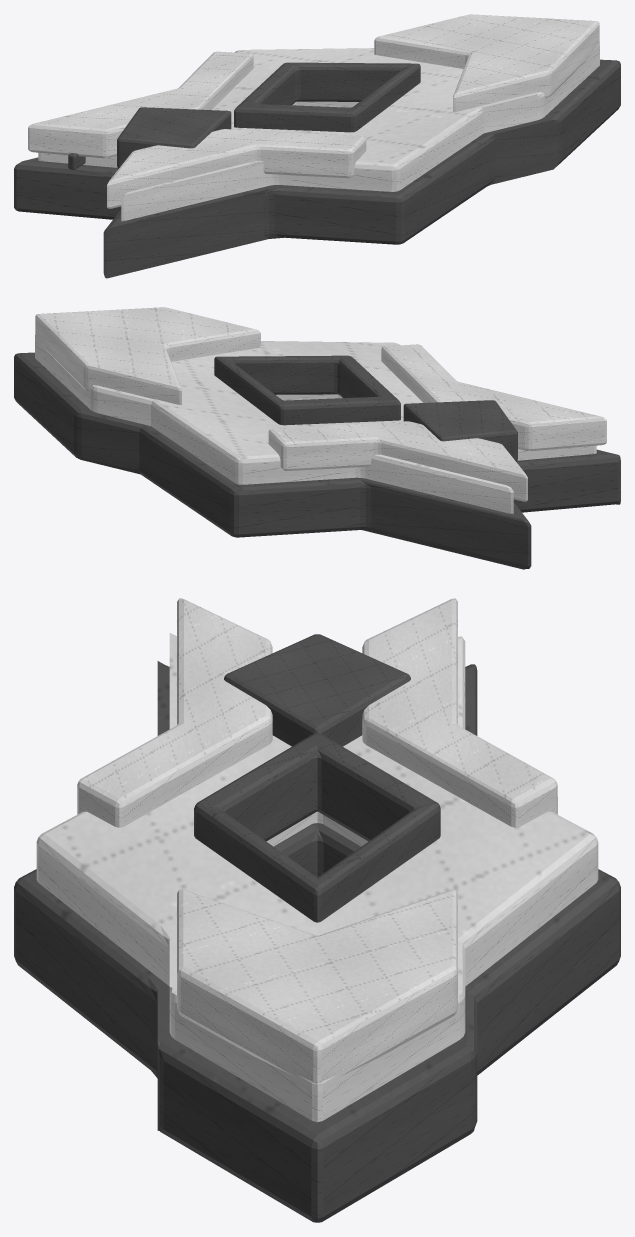
3 views of the same model, one above another, from view 1: azimuth 30°, elevation 25°; view 2: azimuth 150°, elevation 25°; view 3: azimuth 270°, elevation 25° (orthographic). The views are drawn at different scales.
Parts seen in each view (by area): view 1: LatticeRivet.Root.SingleBody, LatticeRivet.CeramicArmor, LatticeRivet.ForwardWedge, LatticeRivet.SouthRail.Armor, LatticeRivet.DiamondCollar, LatticeRivet.NorthRail.Armor, LatticeRivet.RearCore; view 2: LatticeRivet.Root.SingleBody, LatticeRivet.CeramicArmor, LatticeRivet.ForwardWedge, LatticeRivet.NorthRail.Armor, LatticeRivet.DiamondCollar, LatticeRivet.SouthRail.Armor, LatticeRivet.RearCore; view 3: LatticeRivet.Root.SingleBody, LatticeRivet.CeramicArmor, LatticeRivet.ForwardWedge, LatticeRivet.DiamondCollar, LatticeRivet.SouthRail.Armor, LatticeRivet.NorthRail.Armor, LatticeRivet.RearCore.
Part boxes in pixels (bbox=[...]): LatticeRivet.Root.SingleBody: bbox=[14, 59, 620, 278]; LatticeRivet.CeramicArmor: bbox=[38, 42, 599, 221]; LatticeRivet.ForwardWedge: bbox=[374, 14, 599, 112]; LatticeRivet.SouthRail.Armor: bbox=[107, 129, 366, 208]; LatticeRivet.DiamondCollar: bbox=[234, 62, 420, 132]; LatticeRivet.NorthRail.Armor: bbox=[28, 51, 253, 158]; LatticeRivet.RearCore: bbox=[117, 107, 231, 168]; LatticeRivet.Root.SingleBody: bbox=[14, 352, 620, 569]; LatticeRivet.CeramicArmor: bbox=[35, 335, 596, 514]; LatticeRivet.ForwardWedge: bbox=[35, 307, 260, 404]; LatticeRivet.NorthRail.Armor: bbox=[268, 421, 527, 501]; LatticeRivet.DiamondCollar: bbox=[214, 355, 400, 425]; LatticeRivet.SouthRail.Armor: bbox=[381, 344, 606, 451]; LatticeRivet.RearCore: bbox=[403, 400, 517, 461]; LatticeRivet.Root.SingleBody: bbox=[14, 661, 620, 1222]; LatticeRivet.CeramicArmor: bbox=[36, 633, 598, 1122]; LatticeRivet.ForwardWedge: bbox=[177, 889, 457, 1083]; LatticeRivet.DiamondCollar: bbox=[194, 733, 440, 922]; LatticeRivet.SouthRail.Armor: bbox=[77, 598, 272, 827]; LatticeRivet.NorthRail.Armor: bbox=[362, 598, 557, 827]; LatticeRivet.RearCore: bbox=[224, 634, 410, 746].
Bounding box in the file's own units: 0.9913 × 0.16 × 0.5279.
Materials: 3 (3 with a texture image).
